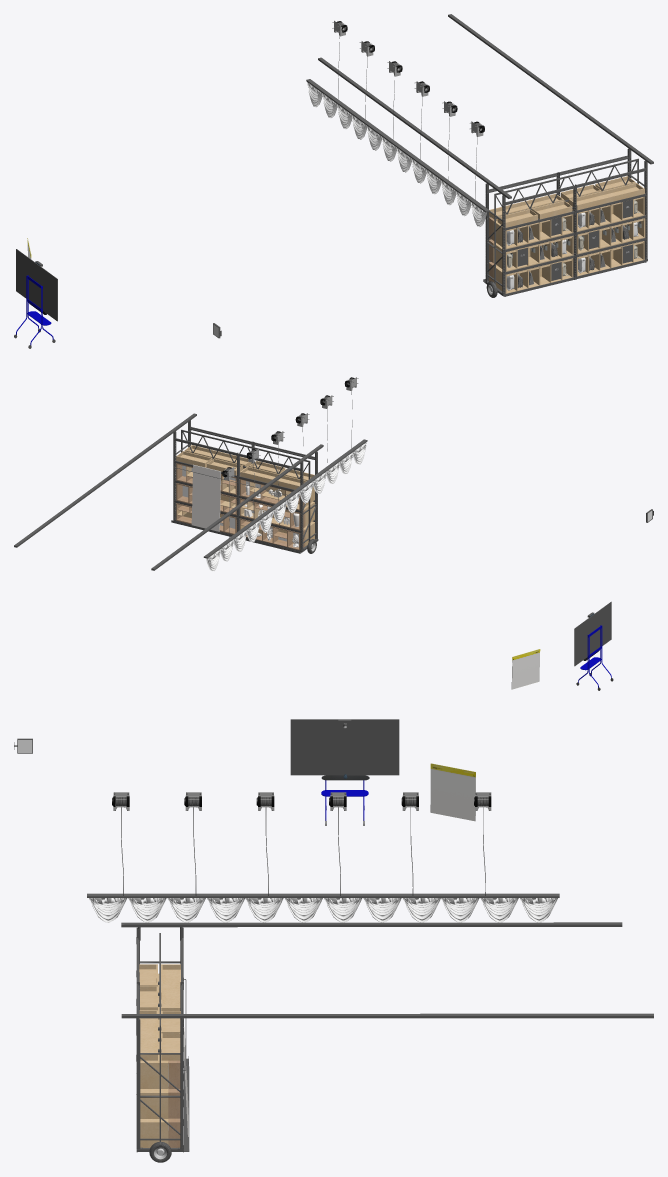
Rendered from small_hub_03.glb.
3 renders of one model, top to bottom at view 1: azimuth 30°, elevation 25°; view 2: azimuth 150°, elevation 25°; view 3: azimuth 270°, elevation 25°, orthographic. The views are drawn at different scales.
Parts seen in each view (by area): view 1: slider_bookshelf, curtain, gvc_display, slider_bookshelf.002, slider_bookshelf.001; view 2: slider_bookshelf, curtain, gvc_display, mobile_whiteboard, slider_bookshelf.002, slider_bookshelf.001; view 3: curtain, slider_bookshelf, gvc_display, slider_bookshelf.002, slider_bookshelf.001, mobile_whiteboard.
Part boxes in pixels (x1,y1,x2,y2): slider_bookshelf: [483, 148, 647, 297]; curtain: [306, 20, 489, 226]; gvc_display: [14, 249, 57, 348]; slider_bookshelf.002: [448, 14, 653, 164]; slider_bookshelf.001: [318, 57, 511, 198]; slider_bookshelf: [171, 420, 318, 553]; curtain: [203, 377, 367, 571]; gvc_display: [574, 601, 613, 690]; mobile_whiteboard: [511, 649, 540, 689]; slider_bookshelf.002: [14, 413, 196, 547]; slider_bookshelf.001: [151, 444, 323, 570]; curtain: [87, 792, 559, 922]; slider_bookshelf: [136, 927, 189, 1162]; gvc_display: [290, 719, 399, 825]; slider_bookshelf.002: [121, 1013, 653, 1018]; slider_bookshelf.001: [121, 922, 622, 927]; mobile_whiteboard: [430, 763, 475, 821].
Bounding box in the file's own units: 640 × 214 × 489.
Materials: 53 (17 with a texture image).
